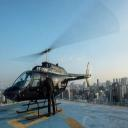helicopter: (4, 49, 94, 120)
